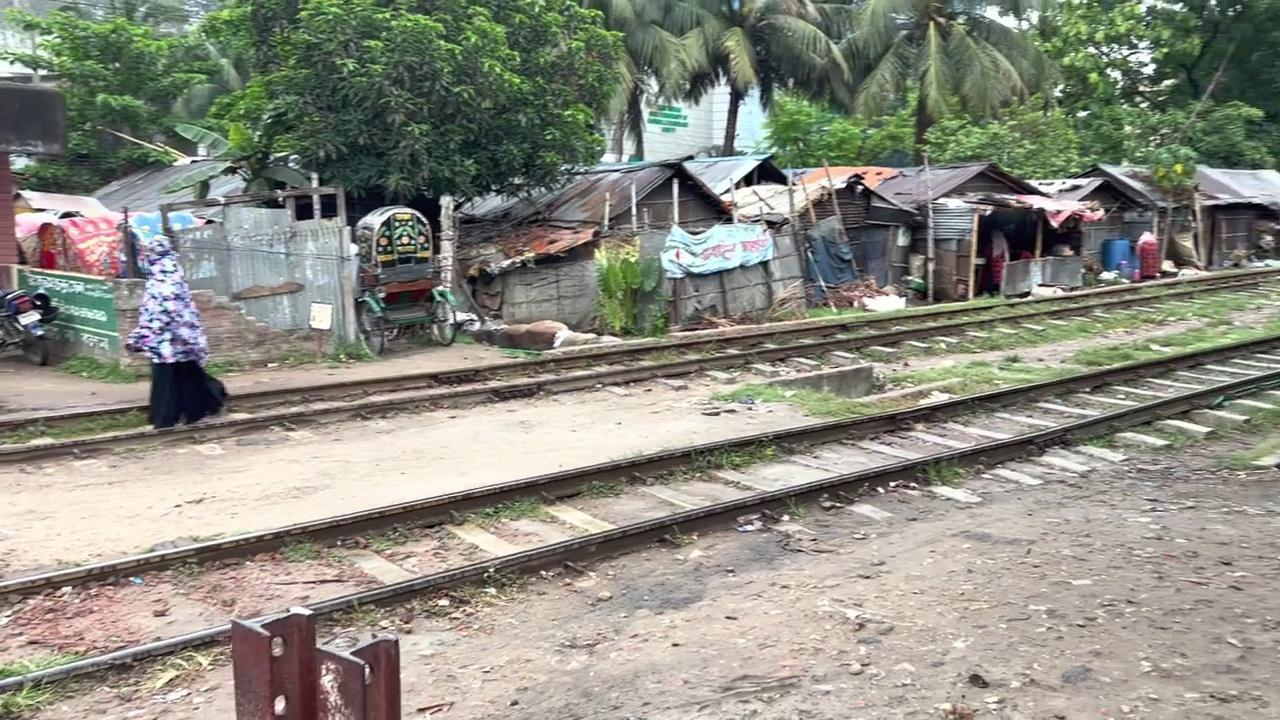Animal: (469, 317, 619, 350)
Curb: (0, 287, 59, 366)
Downstairs: (229, 604, 401, 718)
Fence: (117, 223, 226, 429)
Garbage: (922, 152, 936, 302), (119, 206, 137, 278)
Motorcycle: (0, 400, 1275, 644)
Rickshaw: (351, 204, 458, 356)
